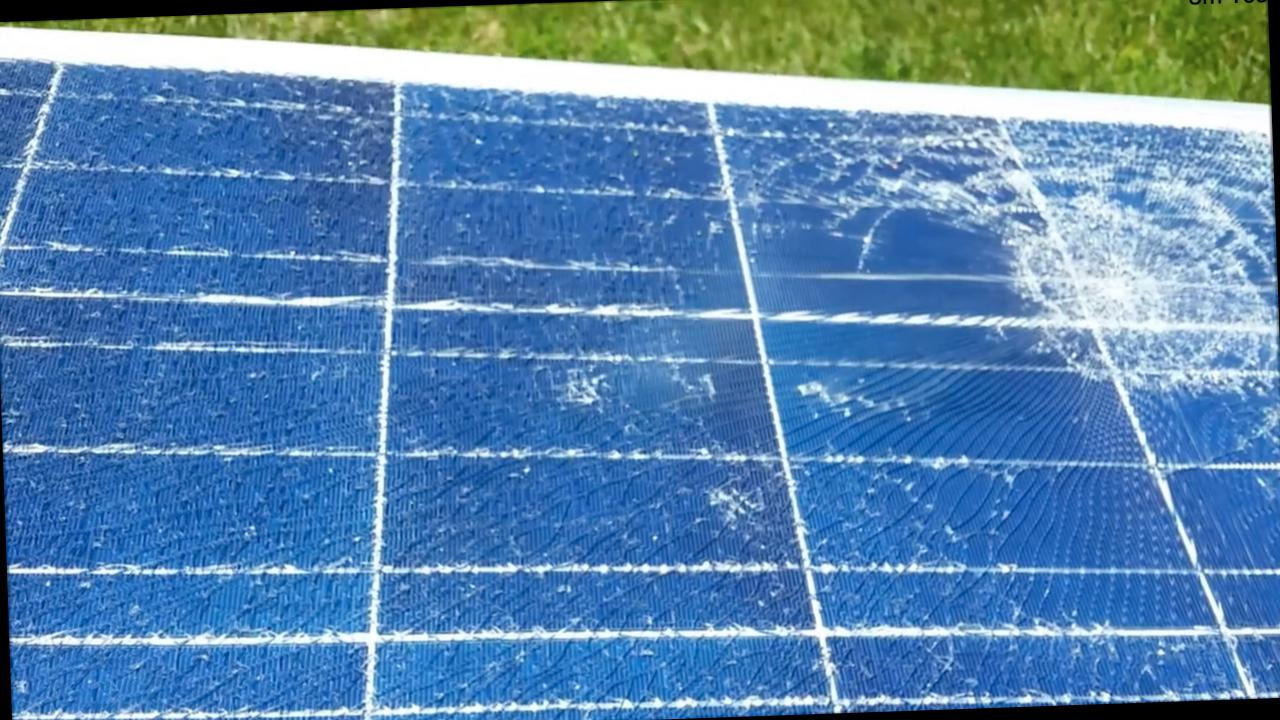Crack: (910, 99, 1279, 445)
